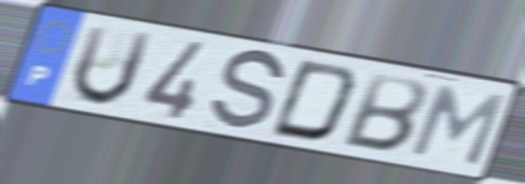4: (139, 36, 211, 124)
B: (337, 69, 430, 155)
D: (265, 57, 363, 145)
M: (405, 82, 509, 170)
S: (205, 48, 288, 134)
U: (68, 22, 157, 109)
